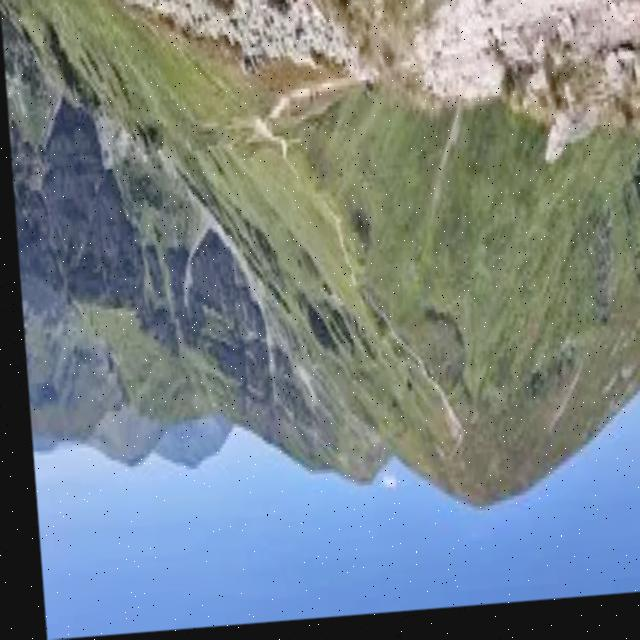Ciemniak: (146, 397, 247, 538)
Kopa Kondracka: (377, 411, 599, 606)
Krzesanica: (69, 379, 199, 550)
Malolaczniak: (283, 383, 450, 582)
